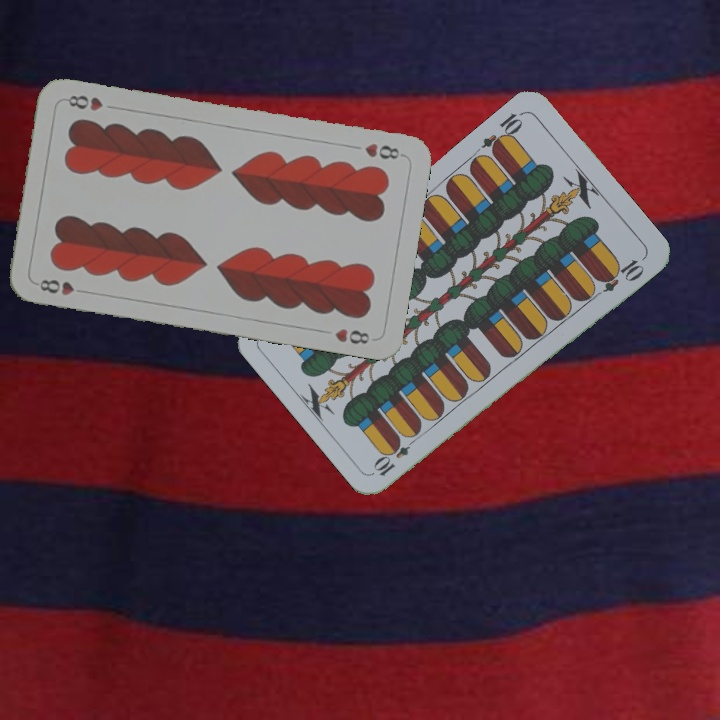E10: (478, 107, 527, 157), (370, 431, 421, 479)
H8: (35, 275, 90, 298), (360, 139, 406, 162)
